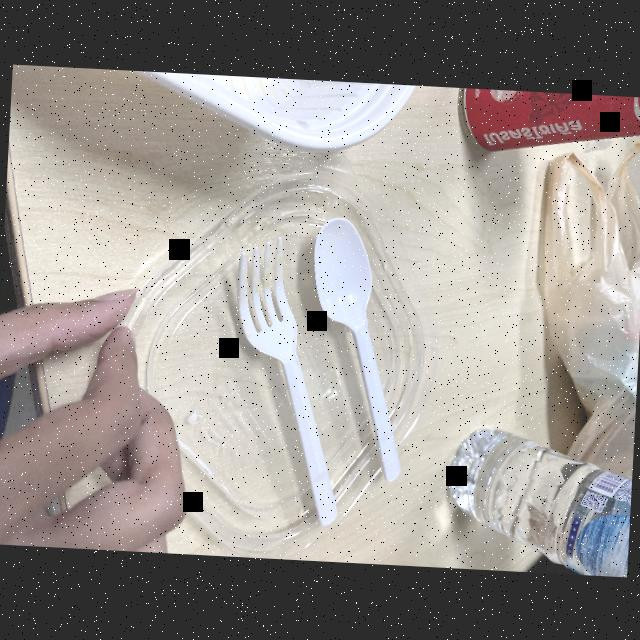plastic_spoon: (214, 230, 368, 537), (301, 208, 418, 487)
